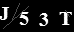3: (37, 12, 49, 27)
5: (18, 11, 30, 26)
J: (1, 6, 9, 21)
T: (57, 11, 73, 26)
